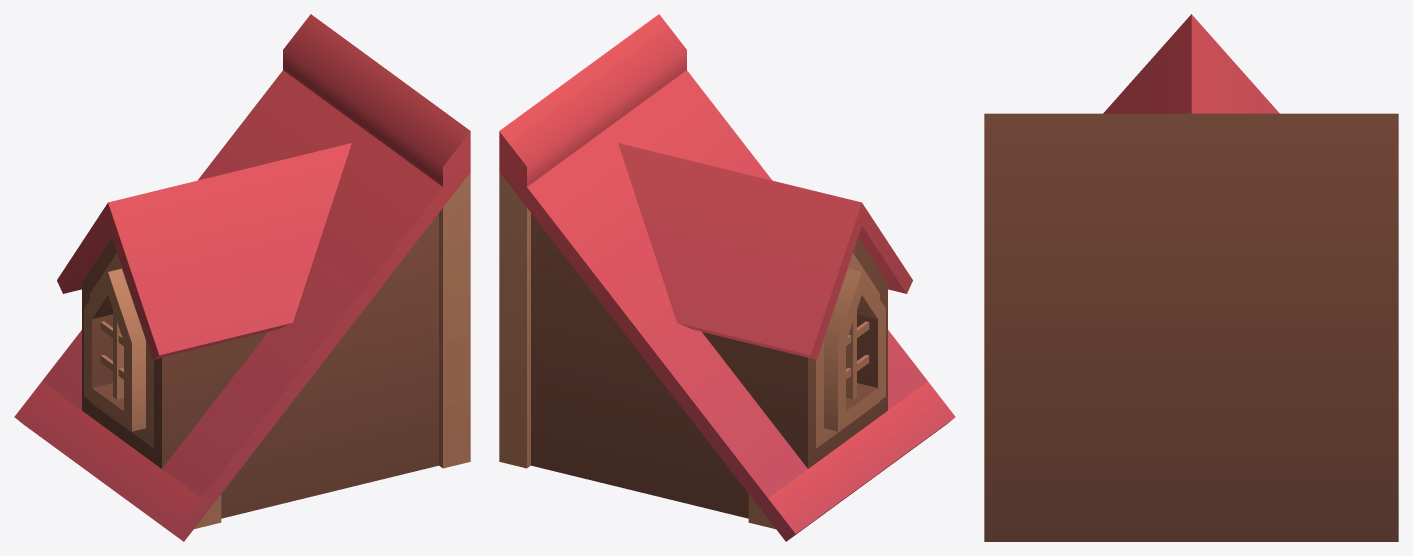
File: kenney-fantasy-town-roof-high-window.glb
3 views of the same model, side by side, from view 1: azimuth 30°, elevation 25°; view 2: azimuth 150°, elevation 25°; view 3: azimuth 270°, elevation 25° (orthographic). The views are drawn at different scales.
Parts seen in each view (by area): view 1: roof-high-window; view 2: roof-high-window; view 3: roof-high-window.
Boxes of the visible parts, <box> form: roof-high-window: <box>14,14,470,541</box>; roof-high-window: <box>499,14,955,541</box>; roof-high-window: <box>984,14,1398,541</box>.
Size of the model in its own units: 1.07 by 1.18 by 1.
Materials: 1 (1 with a texture image).
